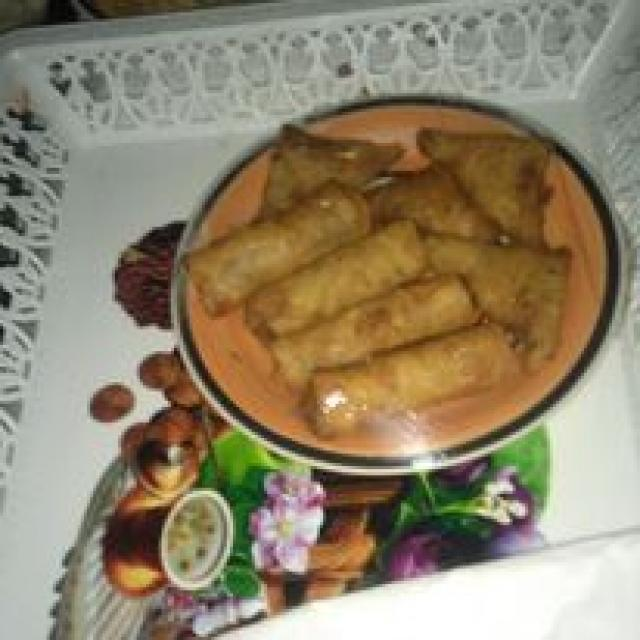Samosa: (438, 105, 565, 308)
Spring Rolls: (198, 183, 426, 420)
